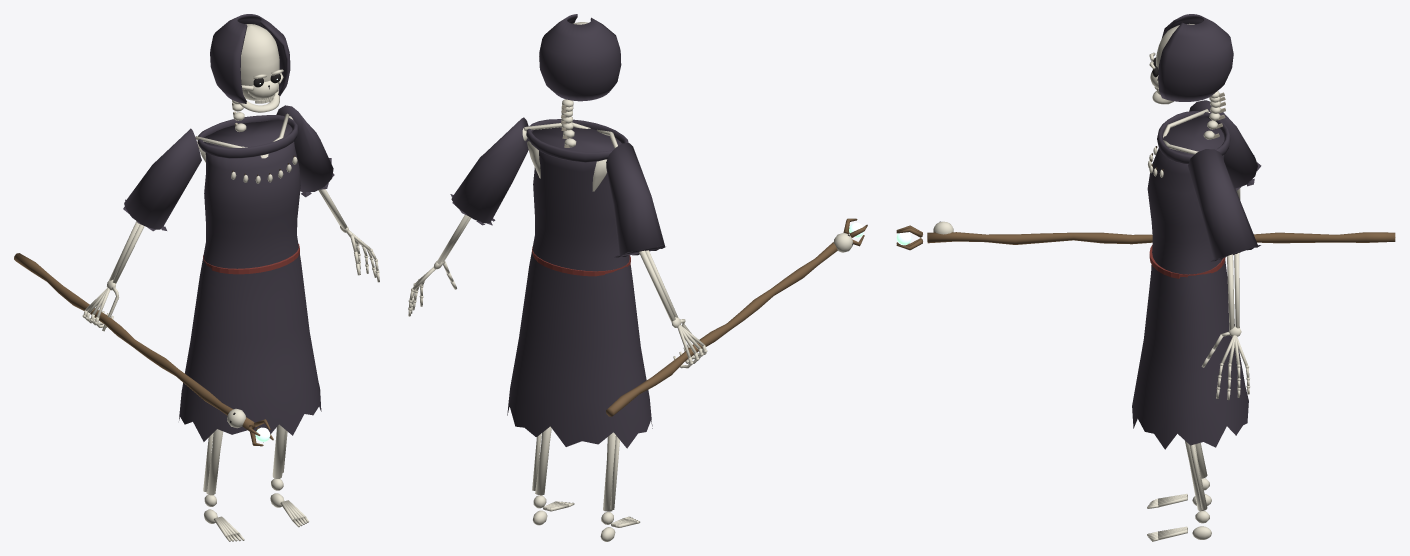
3 renders of one model, left to right at view 1: azimuth 30°, elevation 25°; view 2: azimuth 150°, elevation 25°; view 3: azimuth 270°, elevation 25°, orthographic. The views are drawn at different scales.
Visible parts, largest first — view 1: nekhara__OW_Enemy_SkeletonHorde_Necromancer_MESH; view 2: nekhara__OW_Enemy_SkeletonHorde_Necromancer_MESH; view 3: nekhara__OW_Enemy_SkeletonHorde_Necromancer_MESH.
Part boxes in pixels (<box>): nekhara__OW_Enemy_SkeletonHorde_Necromancer_MESH: <box>14,14,379,541</box>; nekhara__OW_Enemy_SkeletonHorde_Necromancer_MESH: <box>408,14,867,541</box>; nekhara__OW_Enemy_SkeletonHorde_Necromancer_MESH: <box>896,14,1395,541</box>.
Bounding box in the file's own units: 1.18 × 1.94 × 1.74.
